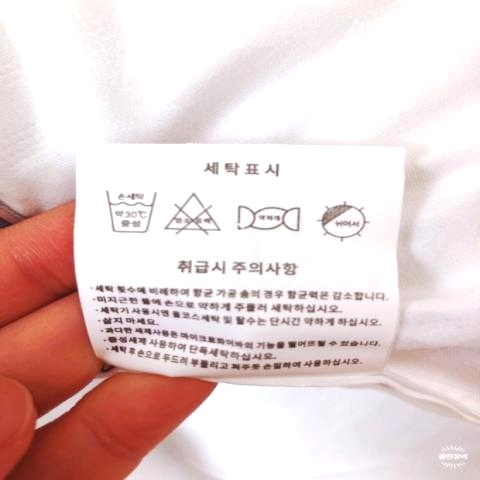dry_flat_in_shade: (317, 200, 371, 242)
hand_wash: (104, 187, 162, 236)
non_chlorine_bleach: (163, 187, 224, 237)
wring: (235, 204, 303, 233)
